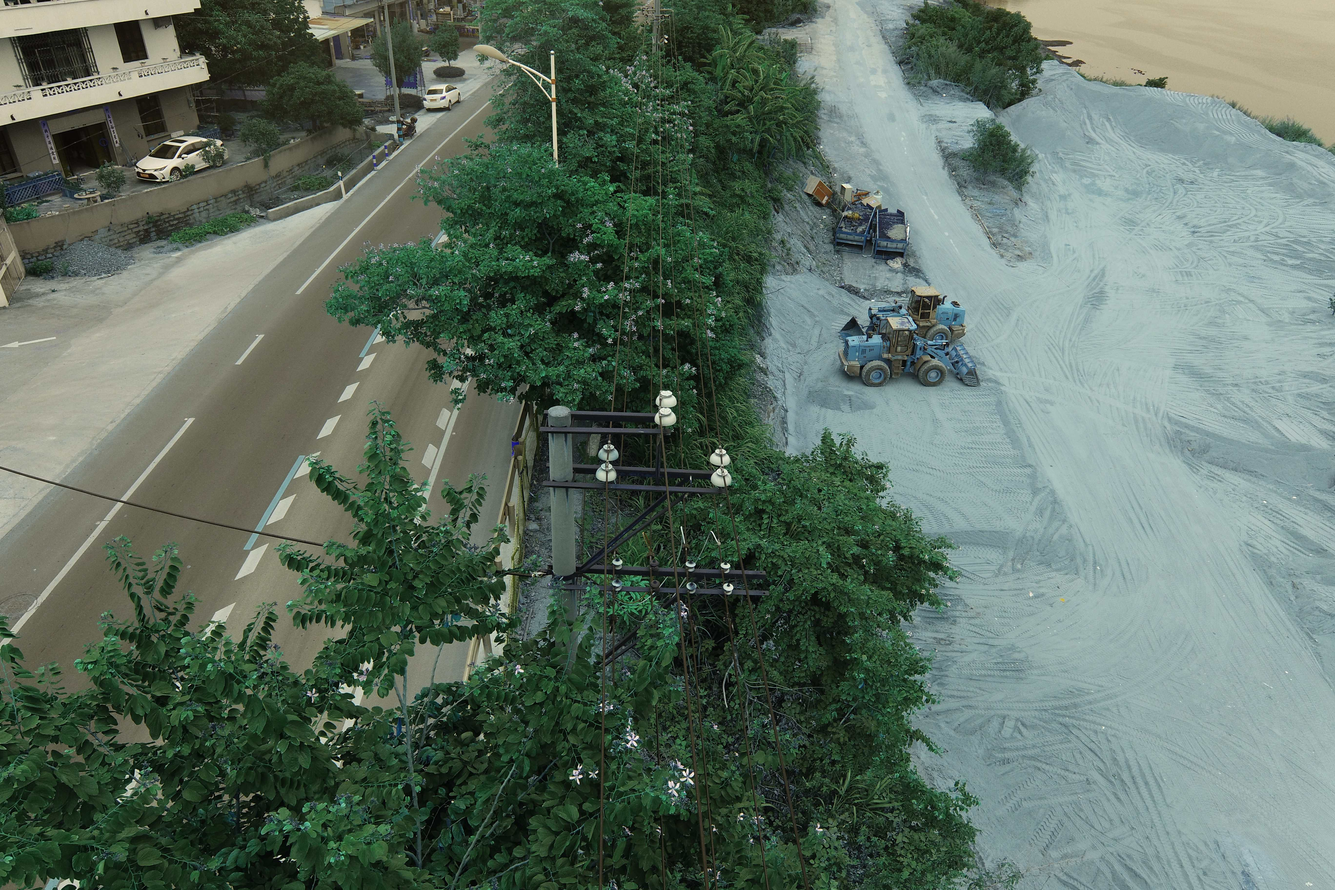severe_soiling_no_discharge_whole: (610, 578, 624, 592), (685, 581, 698, 595)
